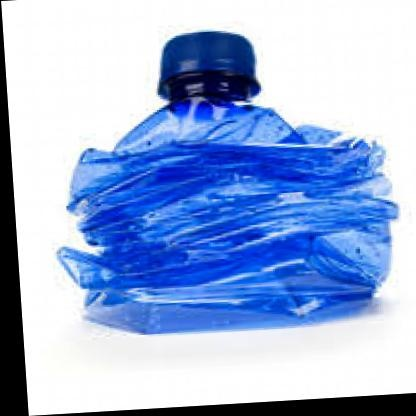trash: (58, 31, 397, 333)
